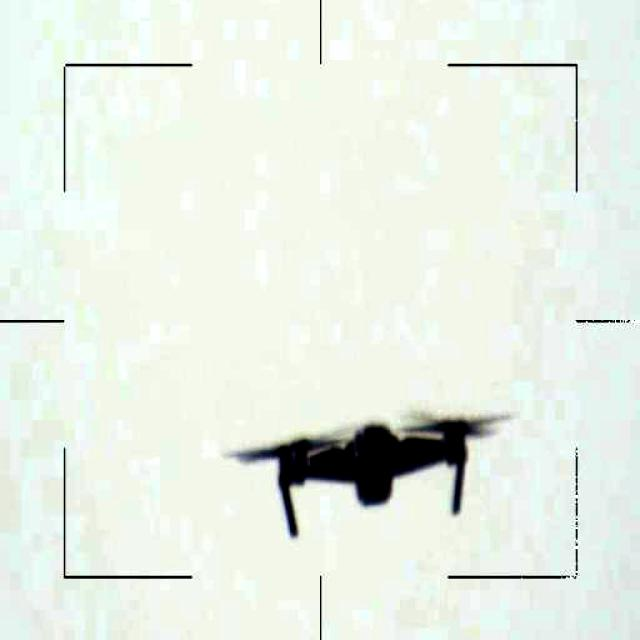bird: (226, 396, 508, 549)
